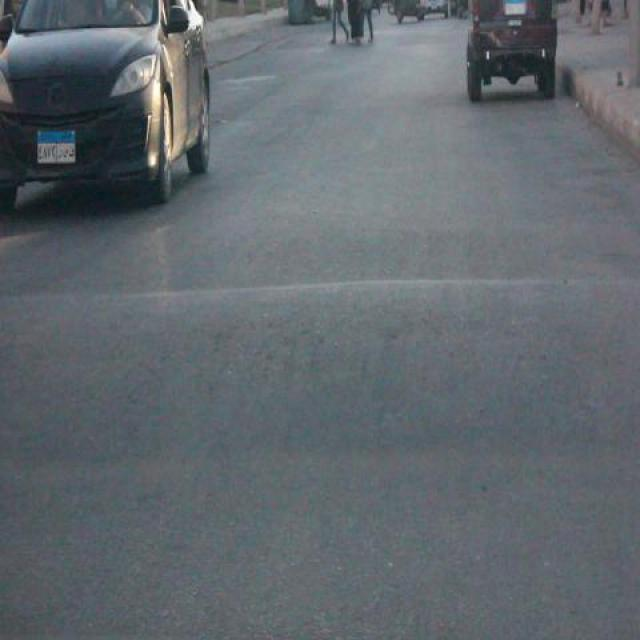Unmarked Bump: (0, 272, 639, 471)
